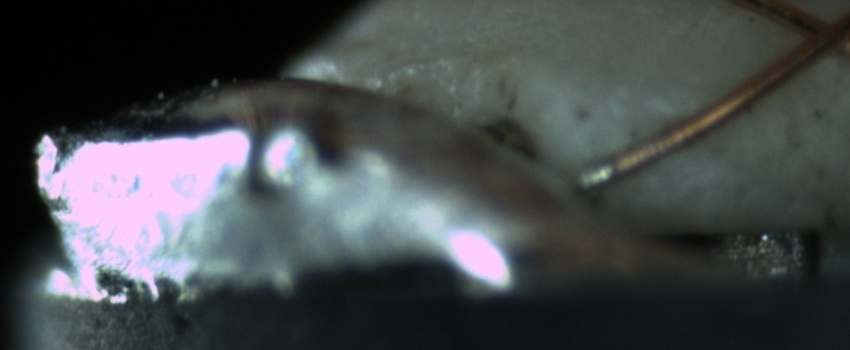CL: (781, 1, 849, 67)
TS: (572, 158, 615, 195)
